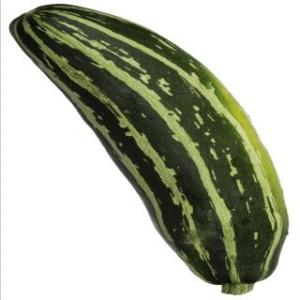zucchini: (0, 8, 300, 300)
